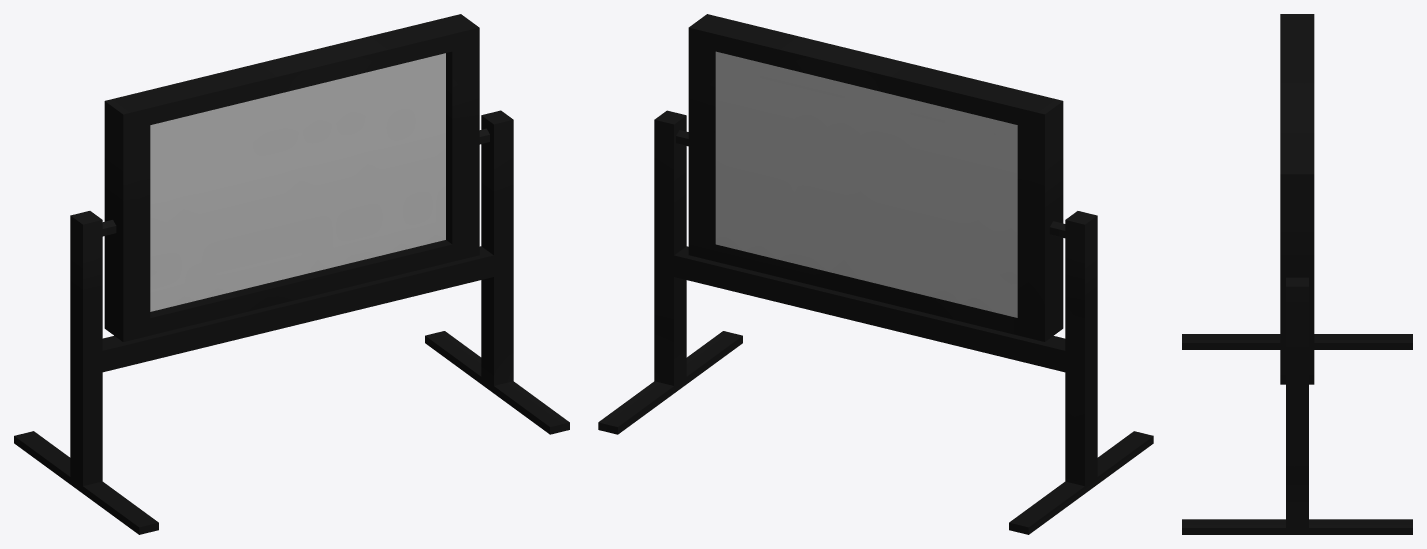
File: Tablero_Borrable.fbx
The picture shows the model from 3 angles, left to right: view 1: azimuth 30°, elevation 25°; view 2: azimuth 150°, elevation 25°; view 3: azimuth 270°, elevation 25°; orthographic projection. The views are drawn at different scales.
Parts seen in each view (by area): view 1: Tablero_Borrable; view 2: Tablero_Borrable; view 3: Tablero_Borrable.
Boxes of the visible parts, x1,y1,x2,y2 form: Tablero_Borrable: (14, 14, 569, 534); Tablero_Borrable: (598, 14, 1153, 534); Tablero_Borrable: (1182, 14, 1412, 534).
Bounding box in the file's own units: 5.25 × 4.34 × 2.64.
Materials: 1 (1 with a texture image).
